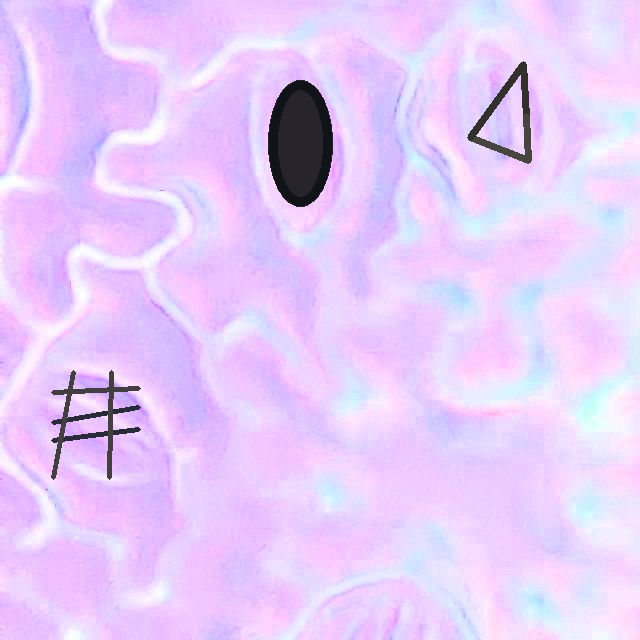open: (51, 370, 140, 479), (269, 80, 332, 206), (467, 61, 529, 162)
